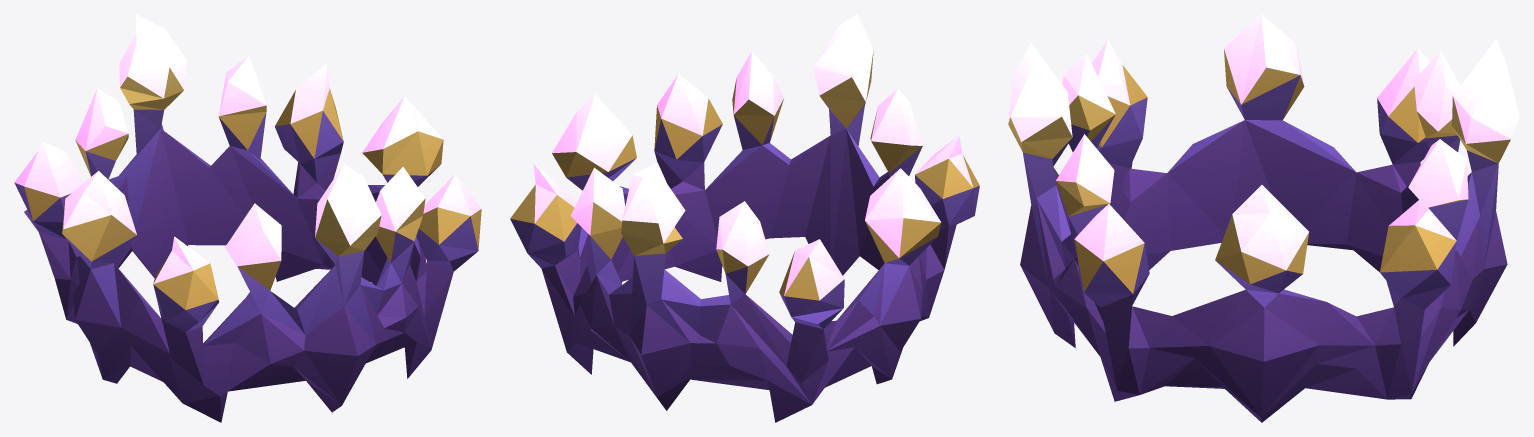
File: crown_hunyuan_600.glb
3 views of the same model, side by side, from view 1: azimuth 30°, elevation 25°; view 2: azimuth 150°, elevation 25°; view 3: azimuth 270°, elevation 25° (orthographic). The views are drawn at different scales.
Parts seen in each view (by area): view 1: world; view 2: world; view 3: world.
Boxes of the visible parts, left/top/right/bottom form: world: left=14, top=14, right=481, bottom=422; world: left=510, top=14, right=979, bottom=422; world: left=1008, top=14, right=1519, bottom=422.
Size of the model in its own units: 0.9663 by 0.6574 by 0.9963.
1 material, 1 textured.
